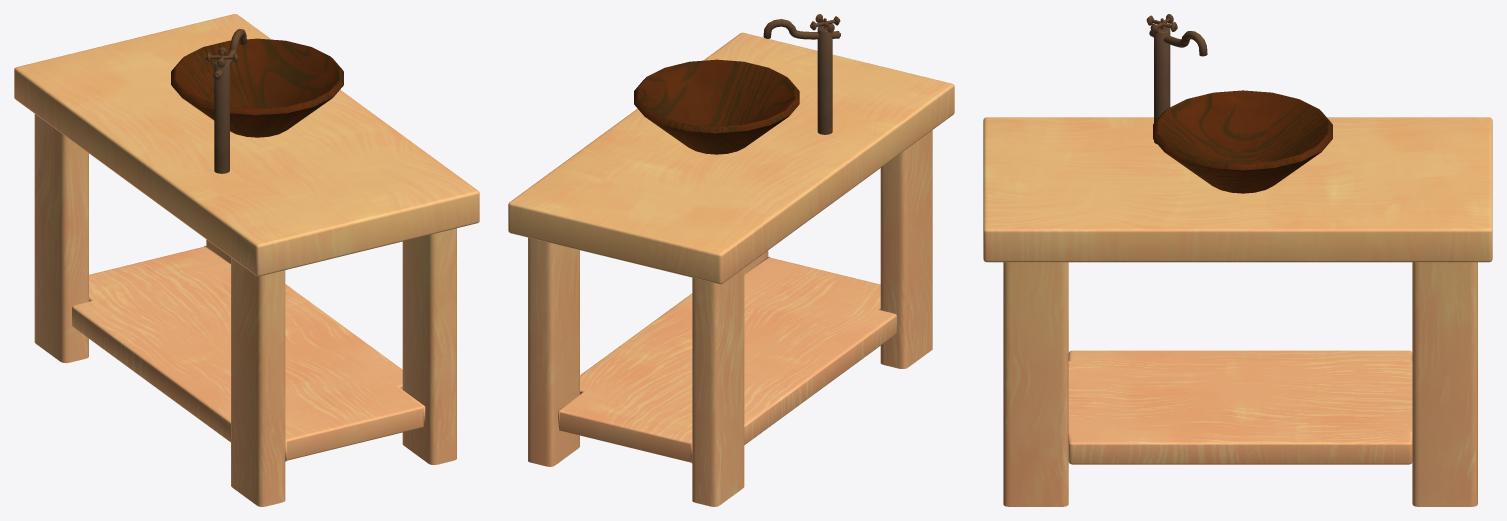
Rendered from House_Sink_v01.fbx.
3 renders of one model, left to right at view 1: azimuth 30°, elevation 25°; view 2: azimuth 150°, elevation 25°; view 3: azimuth 270°, elevation 25°, orthographic. The views are drawn at different scales.
Visible parts, largest first — view 1: Sink_TableTop, Sink_TableLeg, Sink_TableBottom, Sink_Bowl, Sink_PipeBody; view 2: Sink_TableTop, Sink_TableLeg, Sink_TableBottom, Sink_Bowl, Sink_PipeBody, Sink_PipeHead; view 3: Sink_TableTop, Sink_TableBottom, Sink_TableLeg, Sink_Bowl, Sink_PipeBody.
Part boxes in pixels (<box>): Sink_TableTop: <box>14,14,479,276</box>; Sink_TableLeg: <box>34,114,456,506</box>; Sink_TableBottom: <box>72,246,425,461</box>; Sink_Bowl: <box>171,38,343,137</box>; Sink_PipeBody: <box>214,59,229,173</box>; Sink_TableTop: <box>508,32,954,284</box>; Sink_TableLeg: <box>528,130,932,506</box>; Sink_TableBottom: <box>558,256,896,463</box>; Sink_Bowl: <box>634,59,799,154</box>; Sink_PipeBody: <box>817,25,832,134</box>; Sink_PipeHead: <box>763,19,840,39</box>; Sink_TableTop: <box>983,117,1492,262</box>; Sink_TableBottom: <box>1068,350,1412,464</box>; Sink_TableLeg: <box>1003,262,1477,506</box>; Sink_Bowl: <box>1153,90,1332,193</box>; Sink_PipeBody: <box>1154,26,1170,143</box>.
Size of the model in its own units: 65 by 123 by 109.
Materials: 1 (1 with a texture image).
